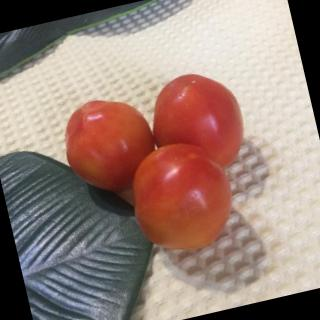Tomat: (134, 57, 260, 192), (127, 129, 243, 261), (50, 81, 167, 206)
